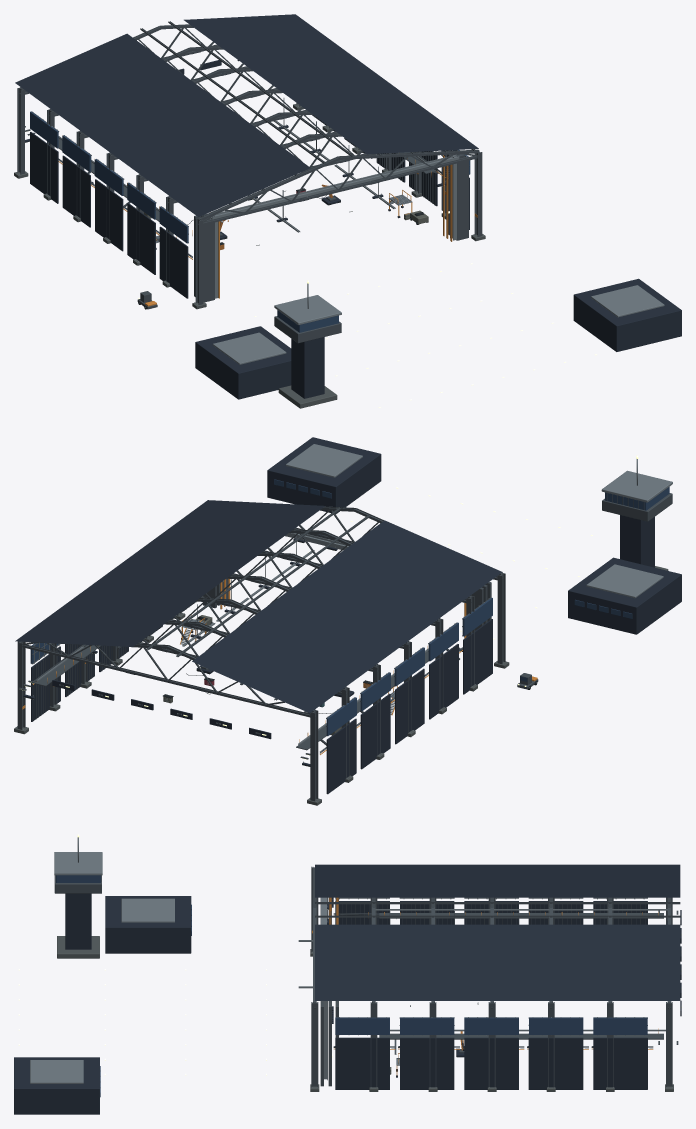
The model's file is hangar-dusk.glb.
3 views of the same model, one above another, from view 1: azimuth 30°, elevation 25°; view 2: azimuth 150°, elevation 25°; view 3: azimuth 270°, elevation 25° (orthographic). The views are drawn at different scales.
Visible parts, largest first — view 1: Foundry frame mesh, Runway annex mesh, Work stations mesh; view 2: Foundry frame mesh, Runway annex mesh, Work stations mesh; view 3: Foundry frame mesh, Runway annex mesh.
Part boxes in pixels (x1=…): Foundry frame mesh: x1=14, y1=14, x2=485, y2=309; Runway annex mesh: x1=137, y1=263, x2=681, y2=408; Work stations mesh: x1=144, y1=184, x2=428, y2=249; Foundry frame mesh: x1=14, y1=500, x2=509, y2=805; Runway annex mesh: x1=267, y1=437, x2=681, y2=689; Work stations mesh: x1=163, y1=615, x2=397, y2=735; Foundry frame mesh: x1=298, y1=864, x2=681, y2=1091; Runway annex mesh: x1=14, y1=834, x2=266, y2=1114.
Bounding box in the file's own units: 85 × 23.69 × 124.
